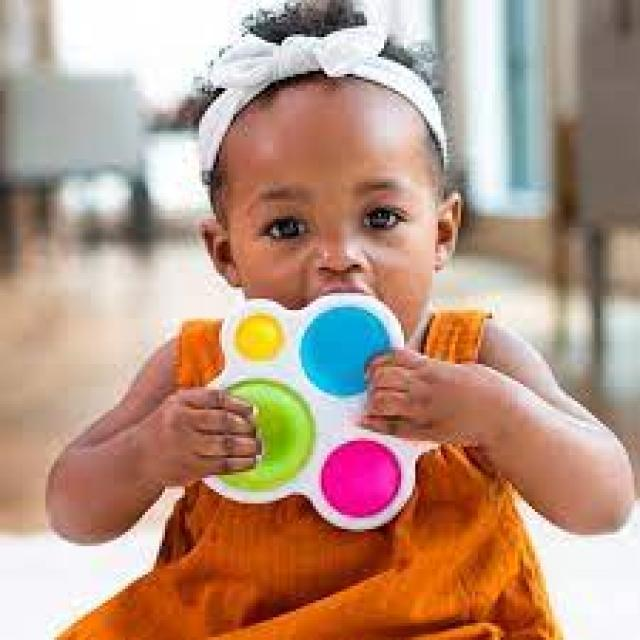hard-toy: (205, 294, 435, 530)
